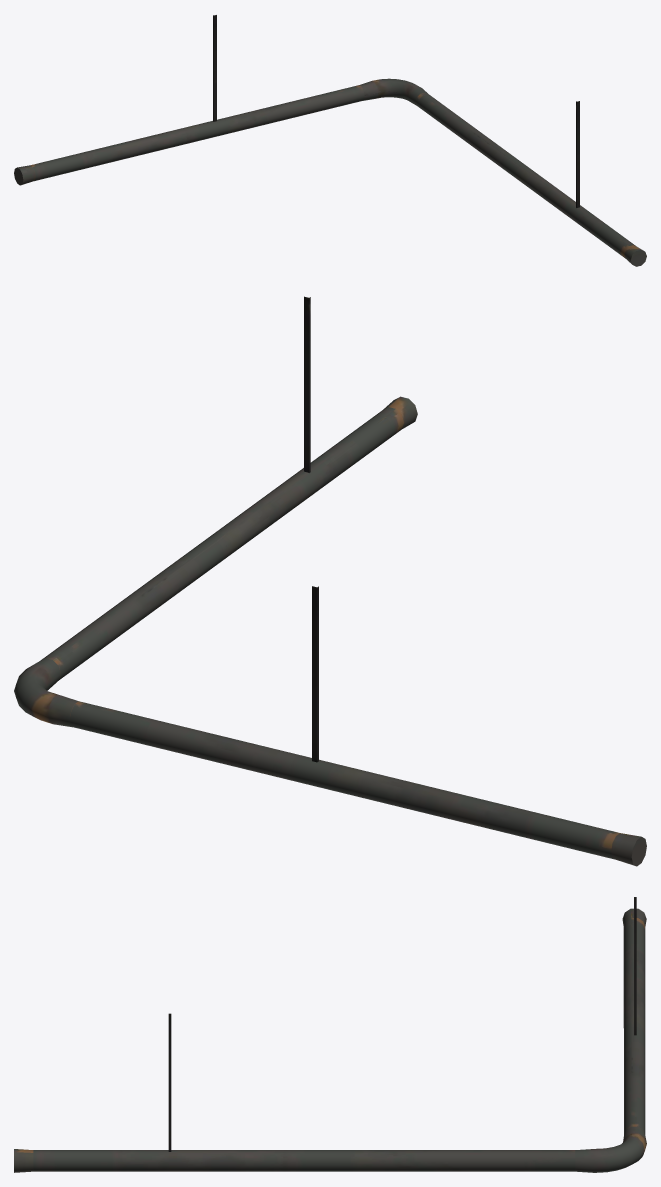
3 views of the same model, one above another, from view 1: azimuth 30°, elevation 25°; view 2: azimuth 150°, elevation 25°; view 3: azimuth 270°, elevation 25° (orthographic). The views are drawn at different scales.
Parts seen in each view (by area): view 1: body0_model0_lod0_mesh0; view 2: body0_model0_lod0_mesh0; view 3: body0_model0_lod0_mesh0.
Boxes of the visible parts, x1=… form: body0_model0_lod0_mesh0: x1=14, y1=15, x2=646, y2=266; body0_model0_lod0_mesh0: x1=14, y1=296, x2=646, y2=866; body0_model0_lod0_mesh0: x1=14, y1=897, x2=646, y2=1172.
Size of the model in its own units: 60.4 by 18.01 by 65.4.
Materials: 1 (1 with a texture image).
